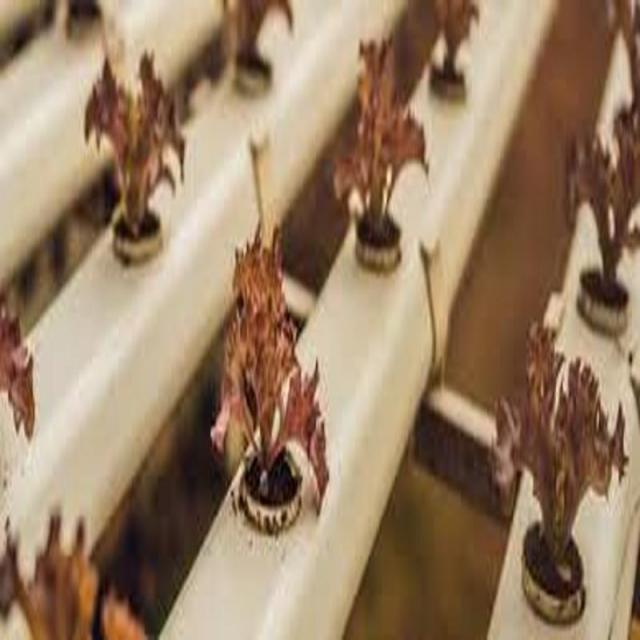Lettuce: (204, 218, 334, 507), (495, 318, 637, 582), (325, 35, 438, 237), (84, 47, 188, 235), (561, 106, 640, 286)
